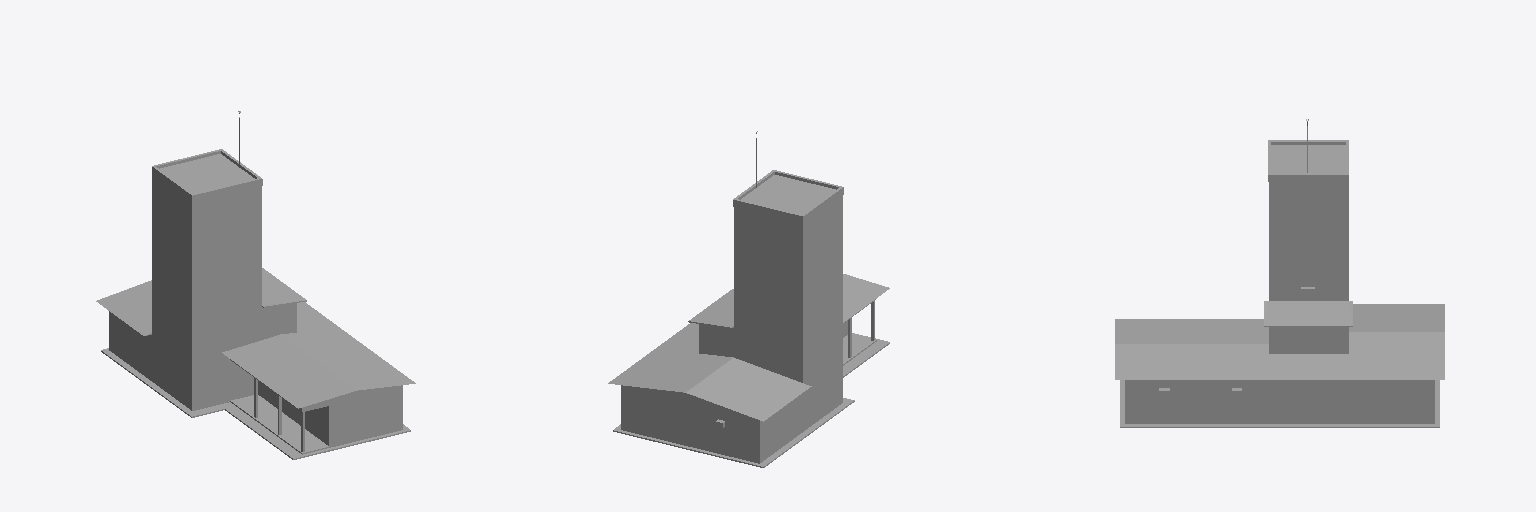
The picture shows the model from 3 angles: view 1: azimuth 30°, elevation 25°; view 2: azimuth 150°, elevation 25°; view 3: azimuth 270°, elevation 25°; orthographic projection.
Parts seen in each view (by area): view 1: 1-_MilitaryBase_Porto; view 2: 1-_MilitaryBase_Porto; view 3: 1-_MilitaryBase_Porto.
Part boxes in pixels (x1,y1,x2,y2): 1-_MilitaryBase_Porto: (96,111,415,459); 1-_MilitaryBase_Porto: (608,131,889,467); 1-_MilitaryBase_Porto: (1115,119,1444,427).
Bounding box in the file's own units: 12.4 × 20.59 × 22.71.